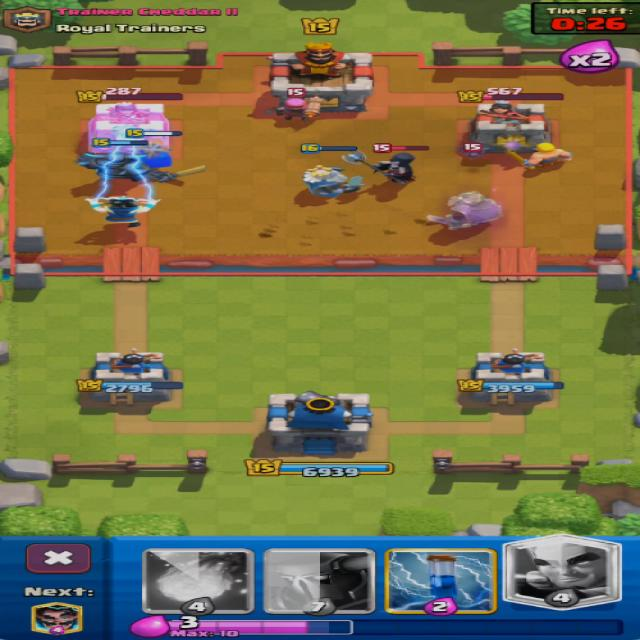Enemy-Bat: (463, 143, 483, 157)
Enemy-Firecracker: (276, 98, 320, 121)
Enemy-KingTower: (270, 42, 372, 113)
Enemy-NightWitch: (343, 152, 412, 184)
Enemy-PrincessTower: (470, 100, 550, 152), (90, 102, 170, 150)
